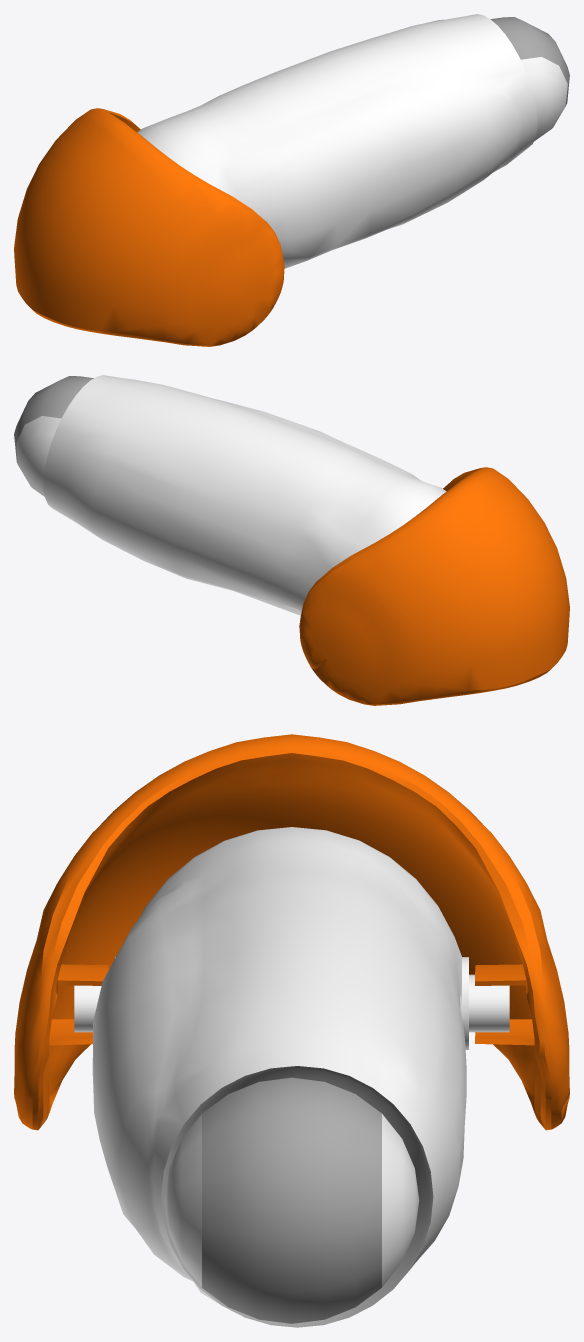
Rendered from LShoulderRoll.obj.
3 views of the same model, one above another, from view 1: azimuth 30°, elevation 25°; view 2: azimuth 150°, elevation 25°; view 3: azimuth 270°, elevation 25° (orthographic). The views are drawn at different scales.
Parts seen in each view (by area): view 1: LShoulderRoll_Mesh.013; view 2: LShoulderRoll_Mesh.013; view 3: LShoulderRoll_Mesh.013.
Part boxes in pixels (left/top/right/bottom): LShoulderRoll_Mesh.013: left=14, top=14, right=569, bottom=346; LShoulderRoll_Mesh.013: left=14, top=375, right=569, bottom=705; LShoulderRoll_Mesh.013: left=14, top=734, right=569, bottom=1327.
Size of the model in its own units: 170 by 60 by 81.69.
